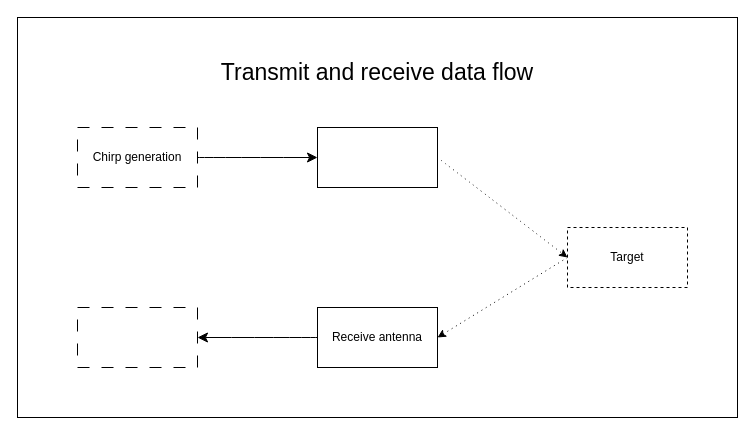
Image size: 755x435. Some labels were removed from this diagram. The centre of each missing label's shape, as x and y in pixels:
"Receiver front-end" belongs at pixel 137 337.
"Transmit antenna" belongs at pixel 377 157.
